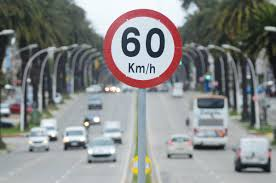Speed_limit_60km: (103, 6, 183, 87)
